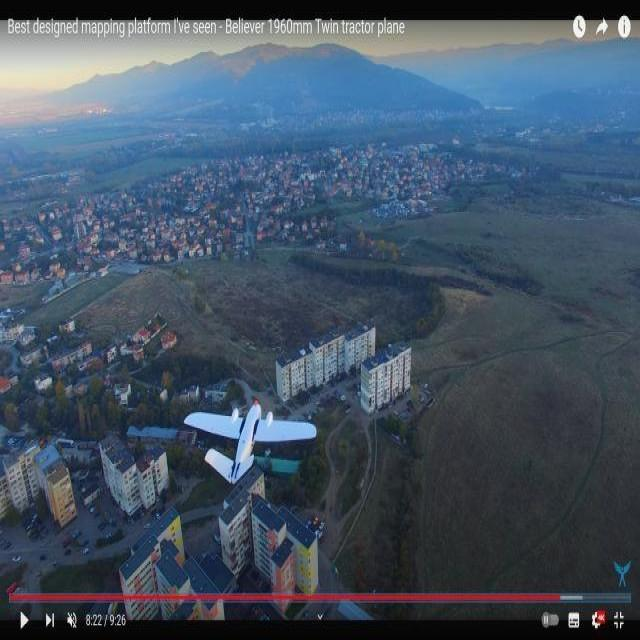Airplane: (178, 378, 316, 482)
